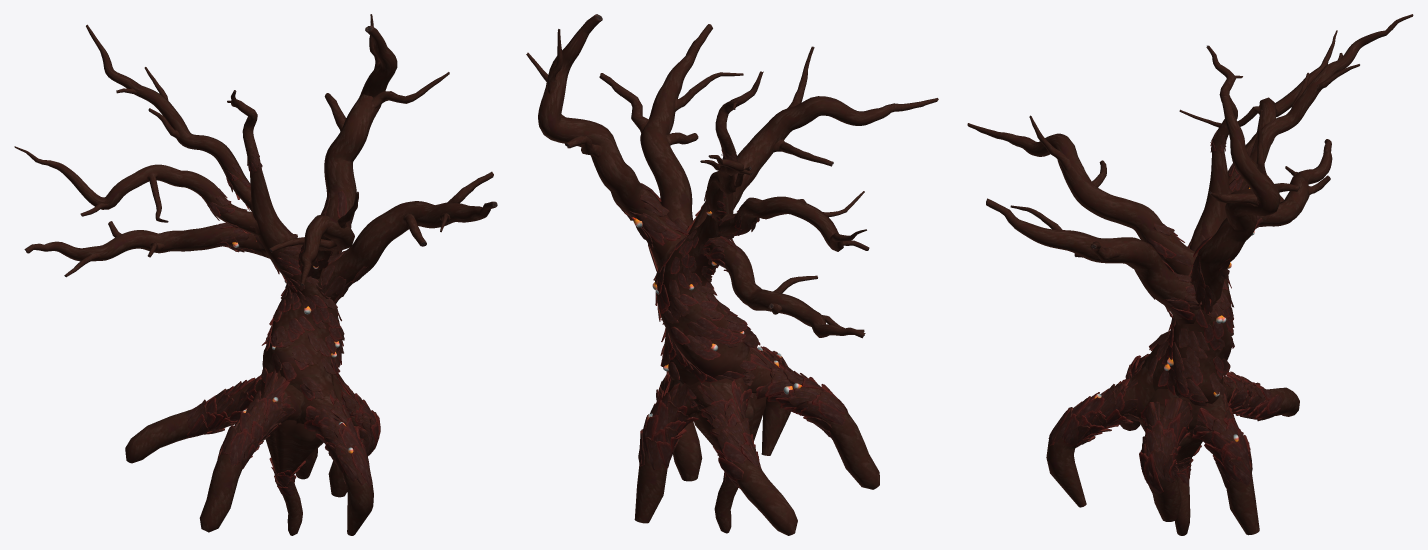
3 views of the same model, side by side, from view 1: azimuth 30°, elevation 25°; view 2: azimuth 150°, elevation 25°; view 3: azimuth 270°, elevation 25° (orthographic). The views are drawn at different scales.
Visible parts, largest first — view 1: SM_Tree_AnimalMagnetism_LOD0; view 2: SM_Tree_AnimalMagnetism_LOD0; view 3: SM_Tree_AnimalMagnetism_LOD0.
Boxes of the visible parts, x1,y1,x2,y2 form: SM_Tree_AnimalMagnetism_LOD0: (14, 14, 497, 535); SM_Tree_AnimalMagnetism_LOD0: (526, 14, 938, 535); SM_Tree_AnimalMagnetism_LOD0: (967, 14, 1413, 535).
Bounding box in the file's own units: 18.31 × 21.93 × 18.07.
2 materials, 2 textured.
